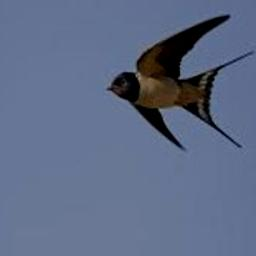Swallow: (107, 13, 256, 150)
